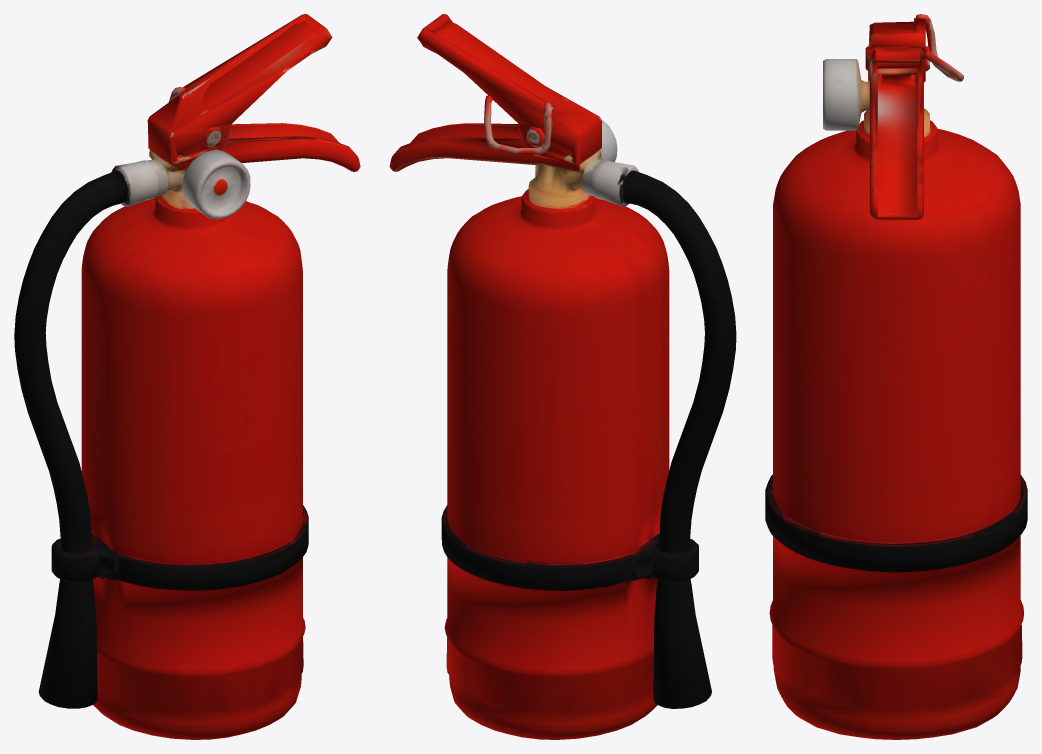
Rendered from fire_extinguisher_wall_mounted_bc0dddd4_v2.glb.
3 views of the same model, side by side, from view 1: azimuth 30°, elevation 25°; view 2: azimuth 150°, elevation 25°; view 3: azimuth 270°, elevation 25° (orthographic). The views are drawn at different scales.
Visible parts, largest first — view 1: material; view 2: material; view 3: material.
Boxes of the visible parts, box(x1,y1,x2,y2) form: material: box(14, 14, 360, 739); material: box(389, 14, 736, 739); material: box(765, 14, 1027, 739).
Bounding box in the file's own units: 1.02 × 1.9 × 0.6132.
1 material, 1 textured.
